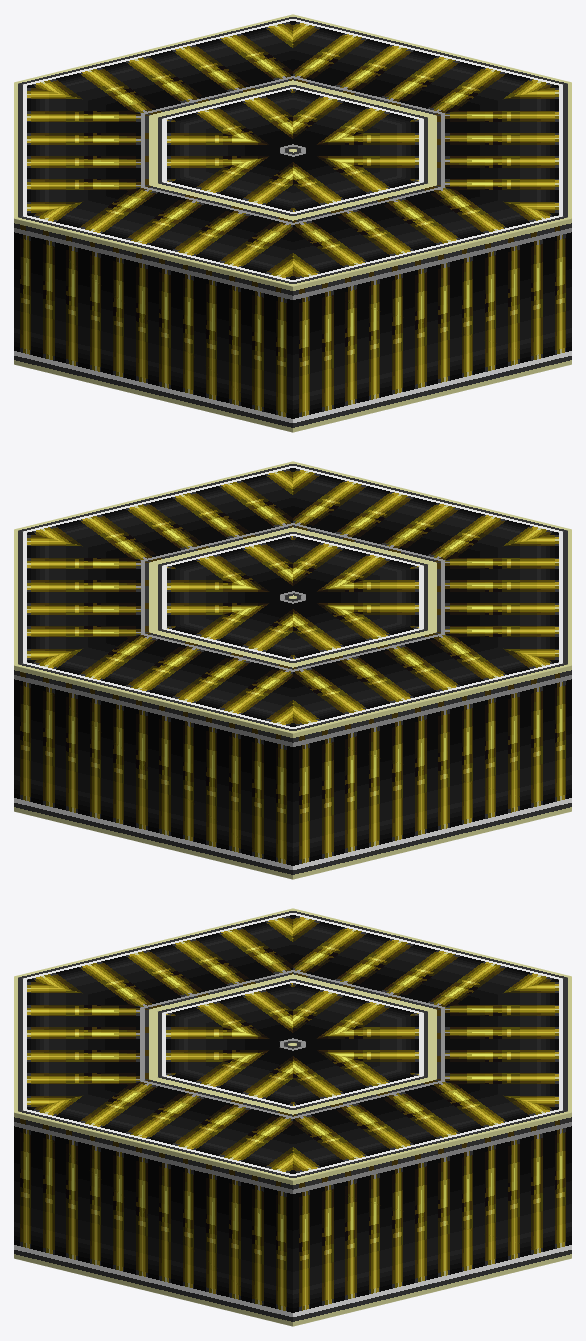
Rendered from ct_mecha_obj06.glb.
The picture shows the model from 3 angles, top to bottom: view 1: azimuth 30°, elevation 25°; view 2: azimuth 150°, elevation 25°; view 3: azimuth 270°, elevation 25°; orthographic projection.
Visible parts, largest first — view 1: ct_mecha_obj06; view 2: ct_mecha_obj06; view 3: ct_mecha_obj06.
Part boxes in pixels (x1=…): ct_mecha_obj06: x1=14, y1=14, x2=571, y2=432; ct_mecha_obj06: x1=14, y1=461, x2=571, y2=879; ct_mecha_obj06: x1=14, y1=908, x2=571, y2=1326.
Size of the model in its own units: 9.38 by 2.34 by 8.12.
1 material, 1 textured.
